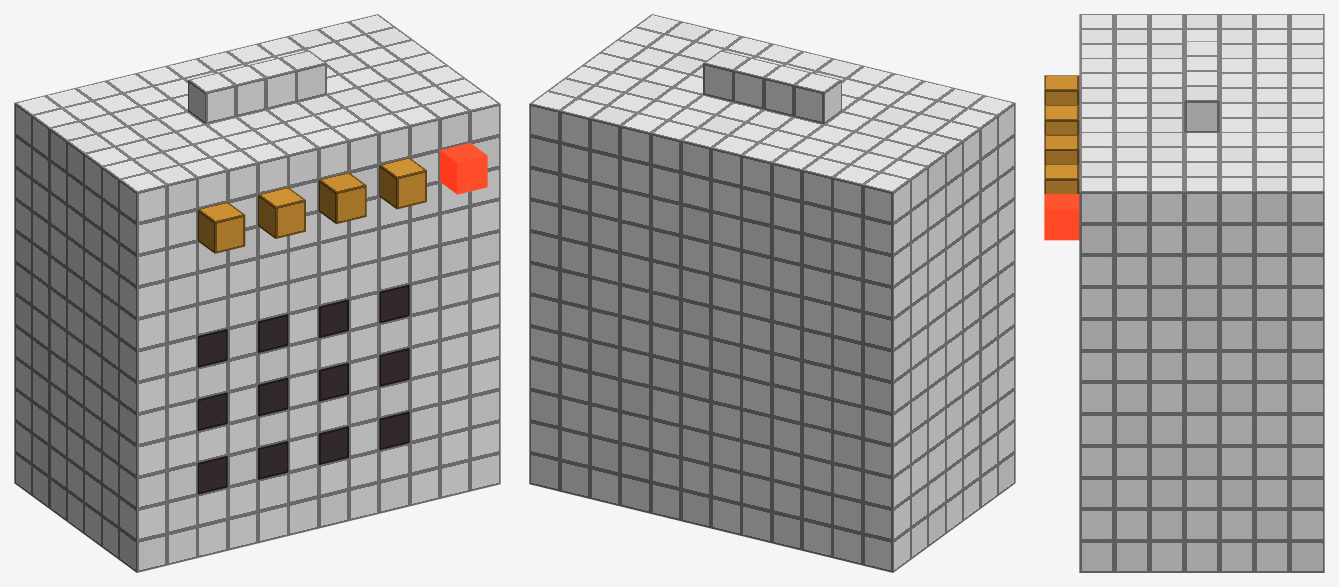
File: amp.glb
3 renders of one model, left to right at view 1: azimuth 30°, elevation 25°; view 2: azimuth 150°, elevation 25°; view 3: azimuth 270°, elevation 25°, orthographic.
Parts seen in each view (by area): view 1: amp; view 2: amp; view 3: amp.
Part boxes in pixels (<box>): amp: <box>14,14,500,572</box>; amp: <box>529,14,1015,572</box>; amp: <box>1044,14,1324,572</box>.
Bounding box in the file's own units: 0.6 × 0.65 × 0.4.
Materials: 5 (4 with a texture image).
